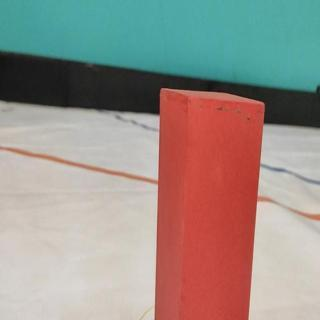redbox: (155, 87, 264, 320)
